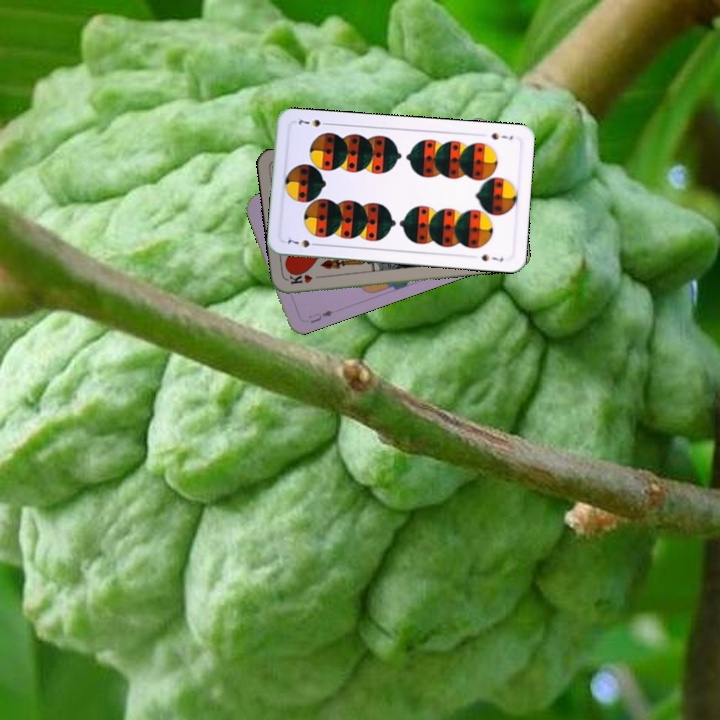EU: (304, 306, 336, 326)
HK: (285, 270, 326, 287)
S7: (283, 235, 322, 250), (487, 128, 515, 142)
